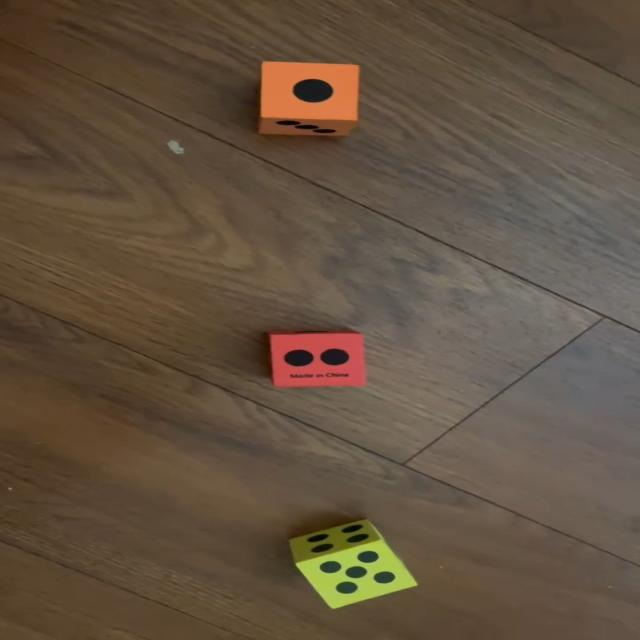red_block: (270, 331, 367, 386)
